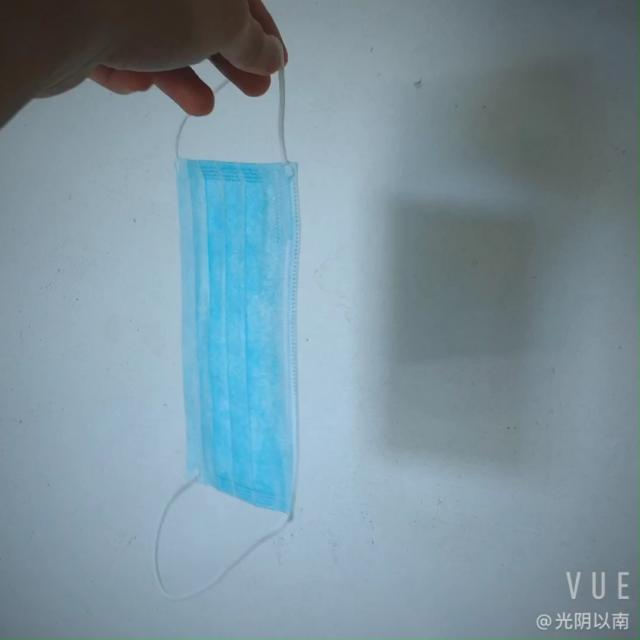face mask: (154, 156, 312, 514)
